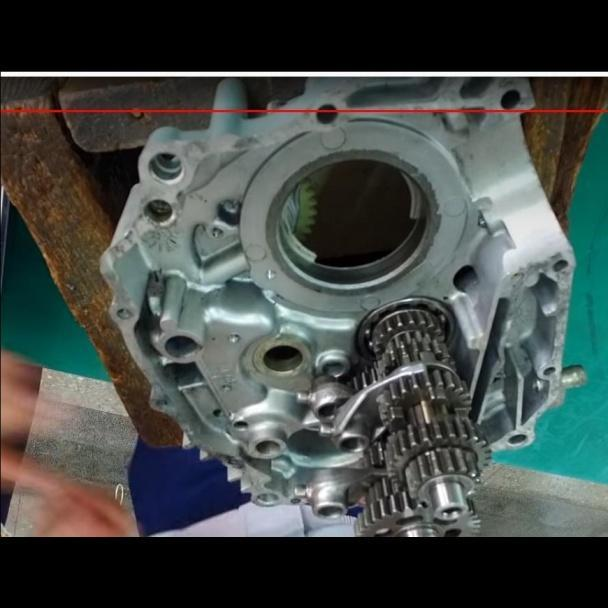hole: (115, 305, 132, 321), (226, 333, 240, 344), (211, 224, 222, 238)
